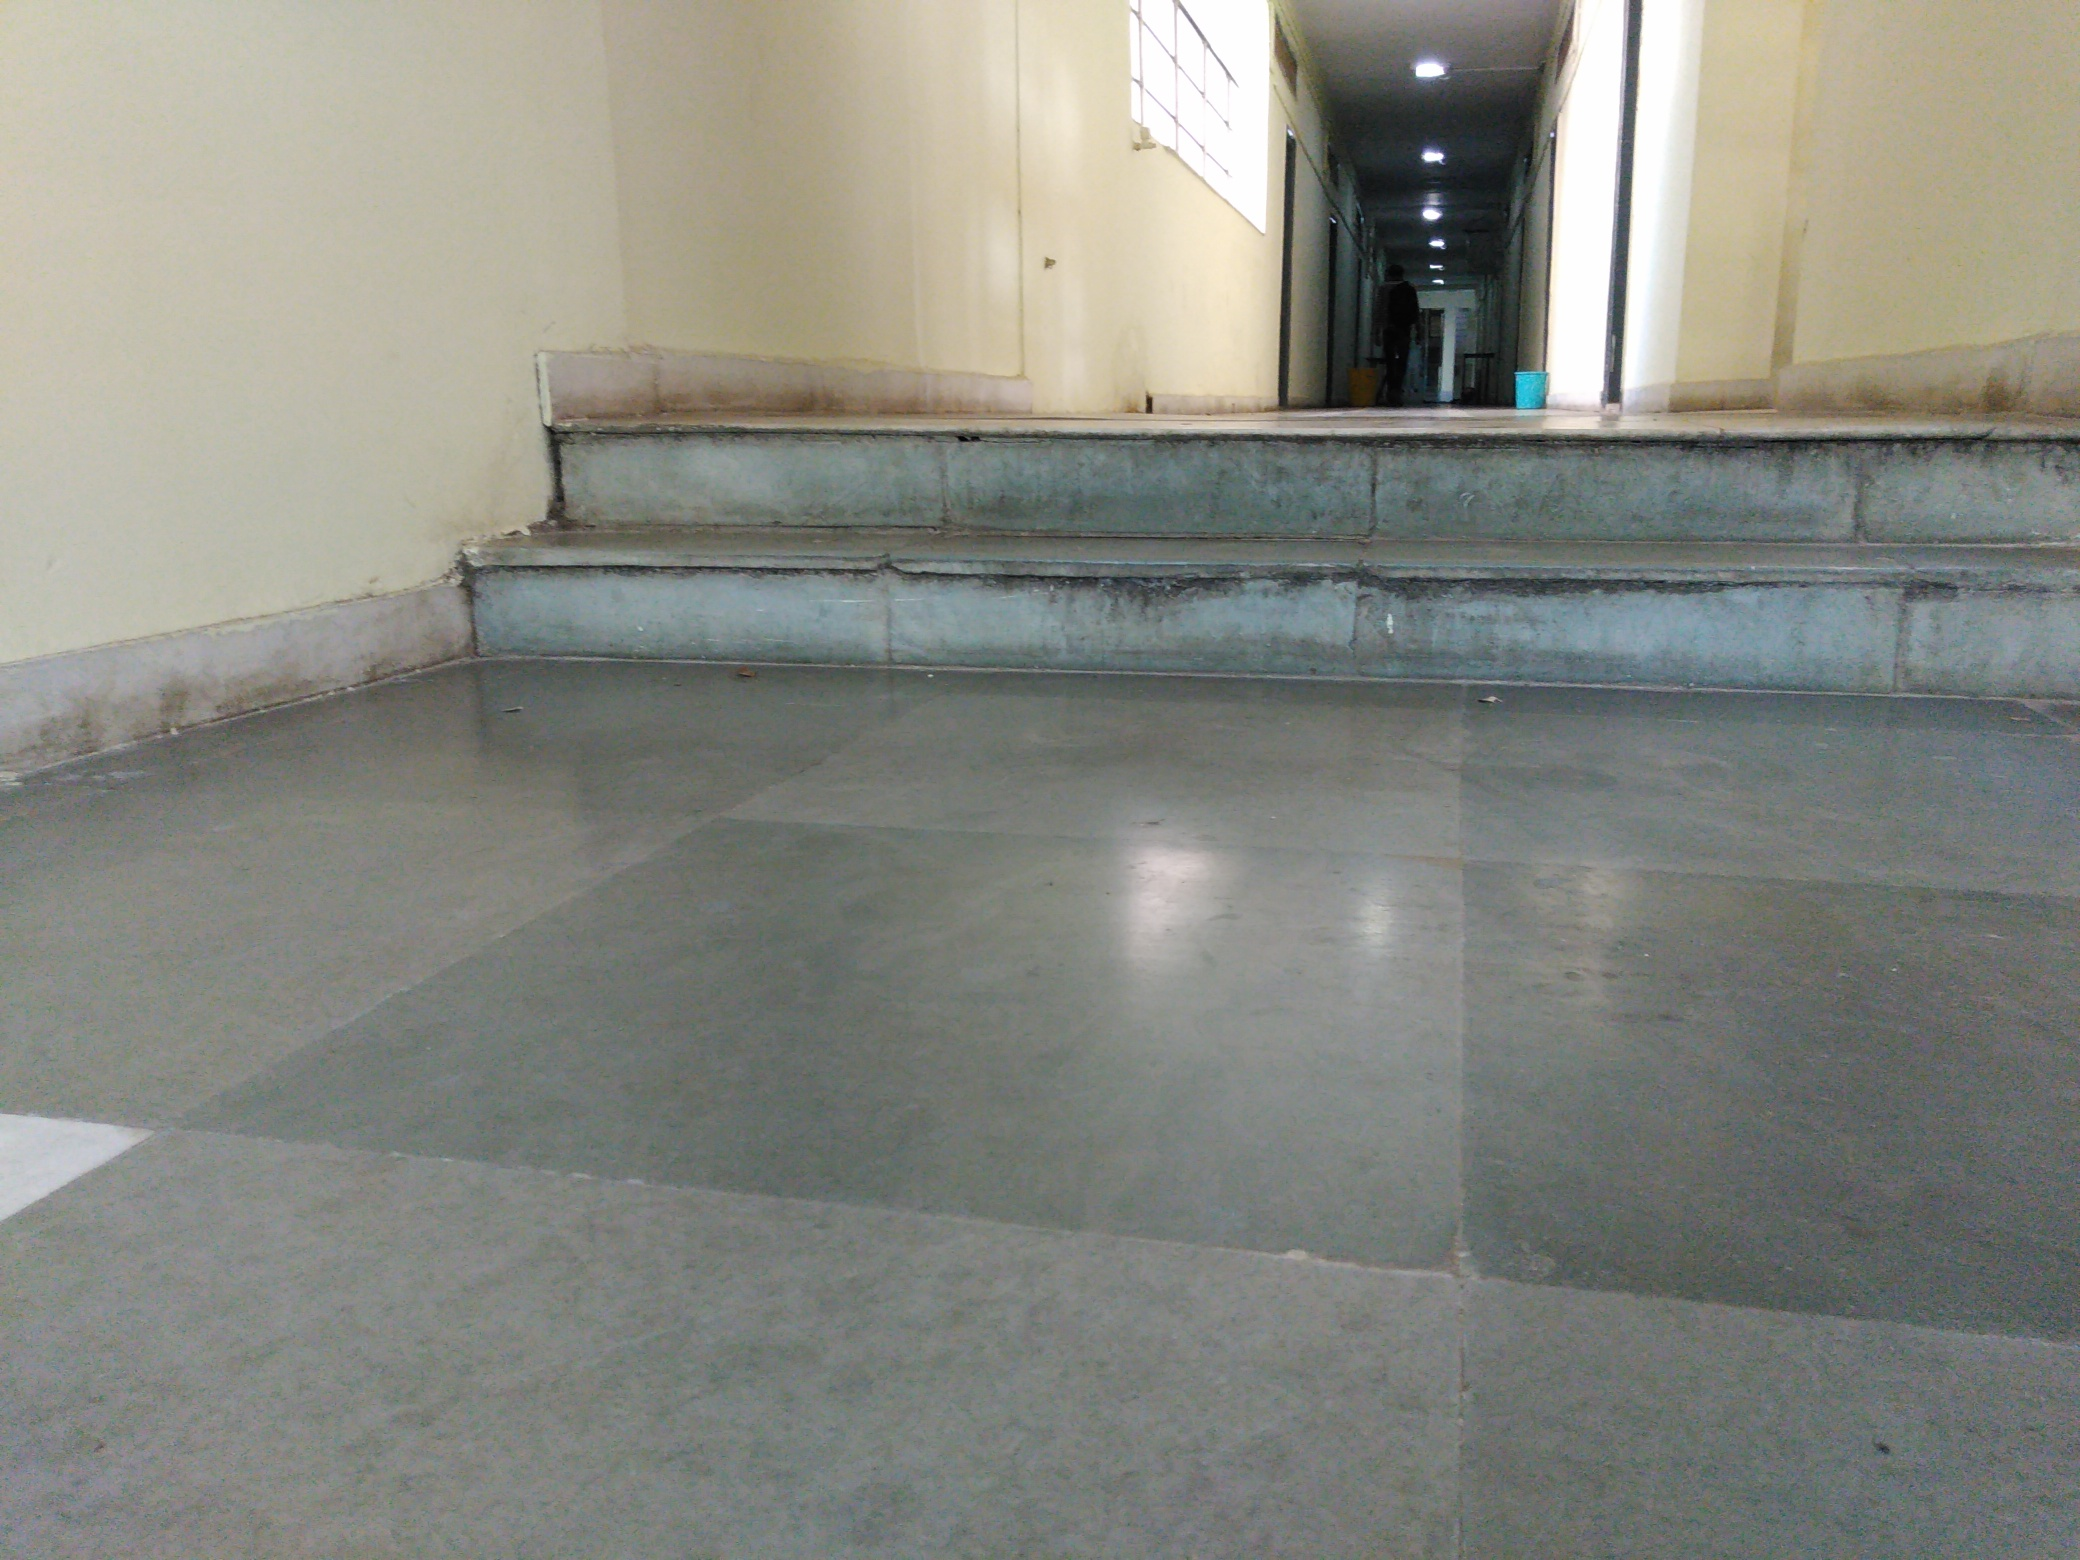stairs_up: (472, 410, 2080, 726)
